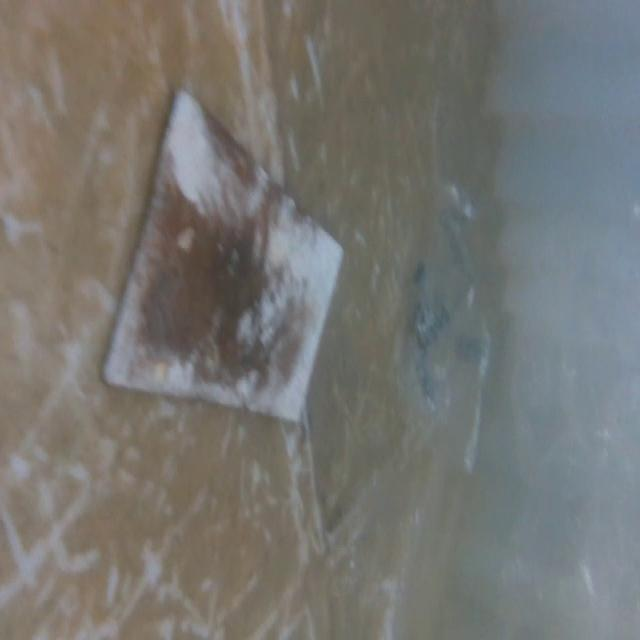metal: (76, 81, 351, 425)
plastic bags: (390, 175, 492, 444)
